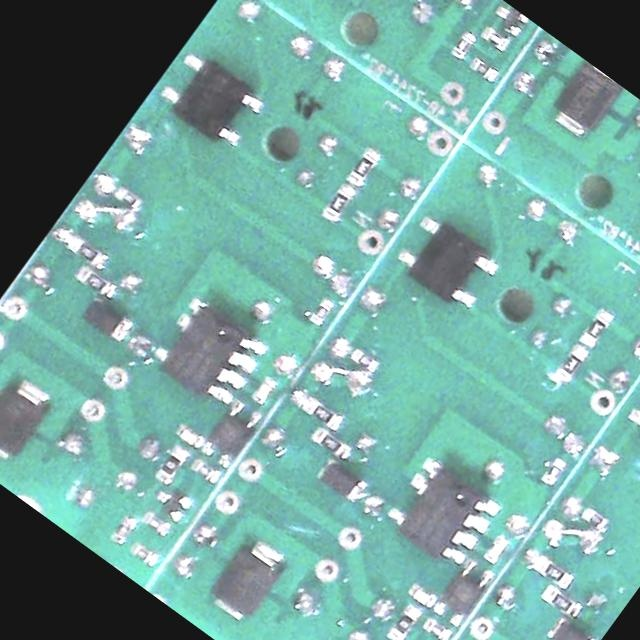chip-capacitor: (483, 532, 511, 564), (408, 581, 437, 607), (252, 376, 277, 404), (176, 425, 201, 447)
chip-resistor: (539, 581, 585, 622), (533, 553, 575, 591), (578, 306, 615, 348), (303, 395, 345, 432), (555, 342, 590, 381), (387, 604, 423, 640), (311, 425, 349, 459), (155, 445, 189, 483), (348, 149, 380, 186), (70, 235, 106, 267), (323, 184, 354, 220), (78, 265, 113, 296), (540, 455, 568, 487), (481, 24, 511, 52), (579, 504, 609, 531), (191, 457, 221, 483), (350, 347, 379, 373), (112, 514, 138, 543), (142, 509, 171, 535), (469, 57, 498, 83), (451, 30, 477, 58), (130, 541, 158, 566), (423, 616, 452, 640), (310, 298, 334, 325), (115, 185, 141, 209)
diode: (205, 530, 294, 626), (548, 60, 624, 140), (0, 369, 57, 463), (316, 455, 368, 502), (82, 295, 134, 342), (545, 613, 599, 640)
ic: (382, 452, 505, 573), (150, 292, 272, 412), (156, 43, 272, 153), (392, 208, 504, 315), (199, 396, 265, 468), (431, 556, 496, 628)
transistor: (150, 481, 194, 523), (490, 0, 529, 37)
